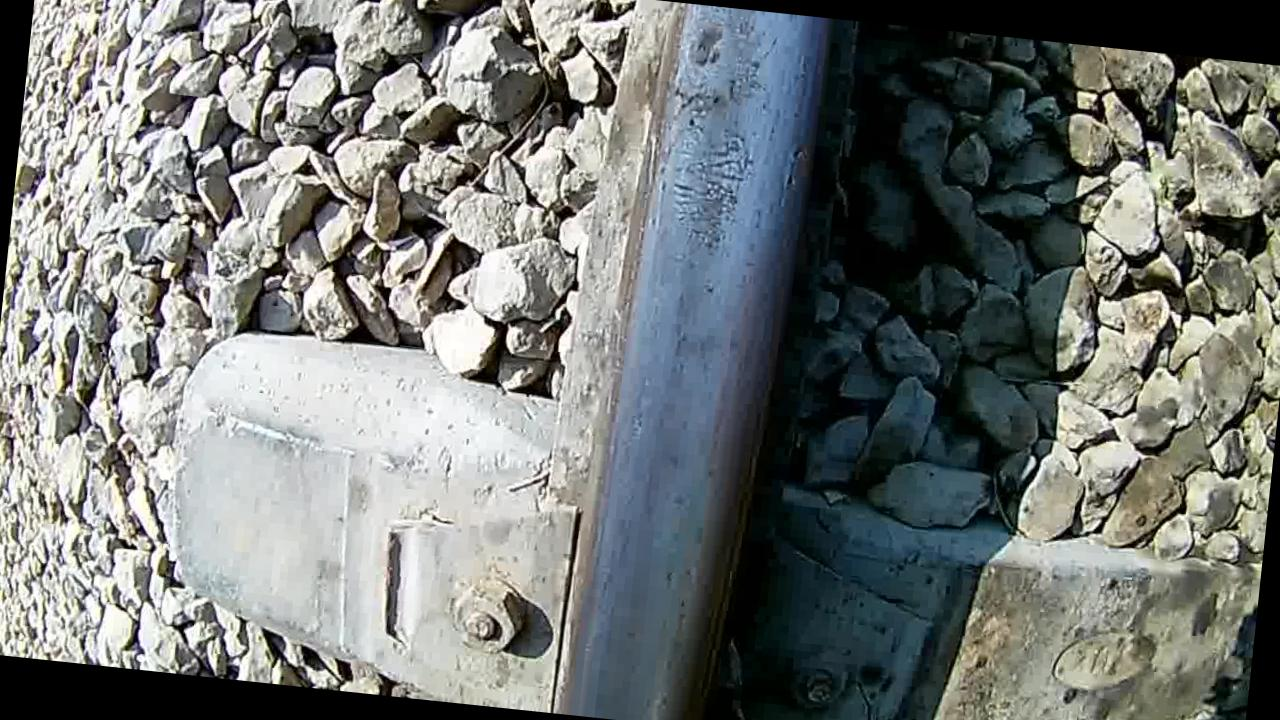crack: (560, 0, 831, 720)
